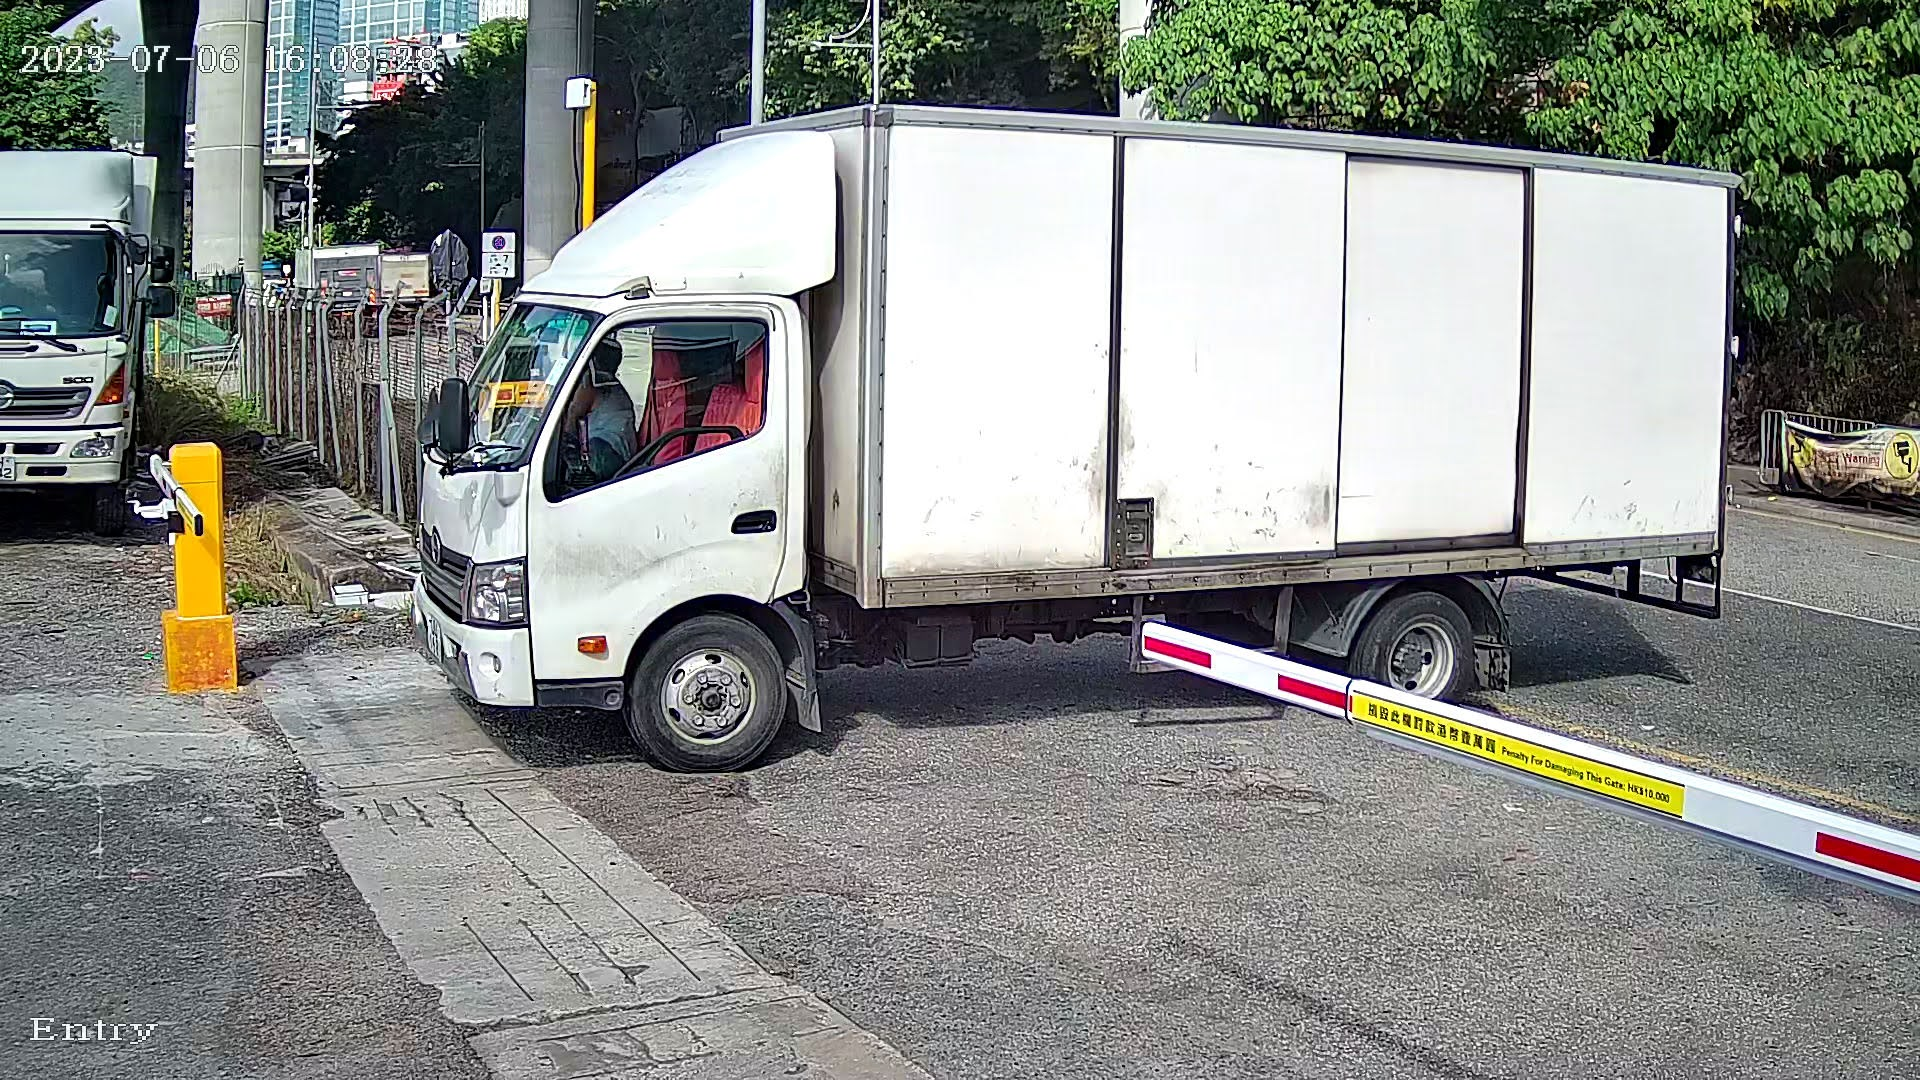truck: (361, 45, 1785, 789)
